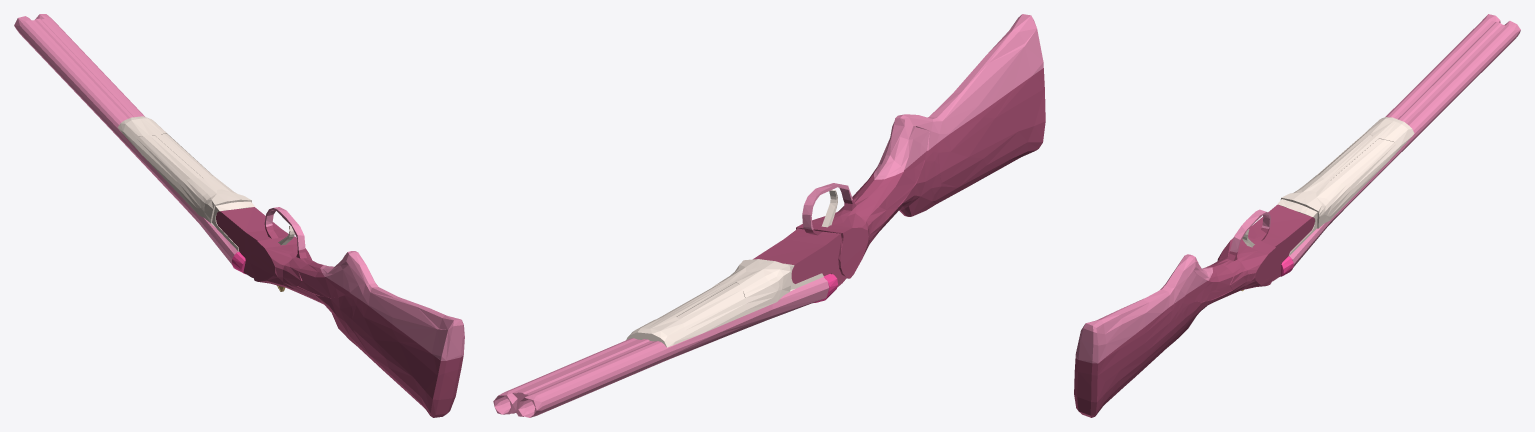
The model's file is Shotgun_DoubleBarrel.obj.
3 renders of one model, left to right at view 1: azimuth 30°, elevation 25°; view 2: azimuth 150°, elevation 25°; view 3: azimuth 330°, elevation 25°, orthographic. The views are drawn at different scales.
Visible parts, largest first — view 1: Grip, Body, Panel; view 2: Body, Grip, Panel; view 3: Body, Grip, Panel.
Part boxes in pixels (bbox=[...]): Grip: bbox=[216, 207, 463, 417]; Body: bbox=[14, 14, 464, 360]; Panel: bbox=[117, 116, 294, 251]; Body: bbox=[493, 14, 1043, 417]; Grip: bbox=[753, 68, 1045, 287]; Panel: bbox=[626, 189, 837, 347]; Body: bbox=[1075, 14, 1520, 363]; Grip: bbox=[1074, 204, 1314, 417]; Panel: bbox=[1242, 117, 1414, 255].
Bounding box in the file's own units: 0.1797 × 0.3865 × 2.9.
